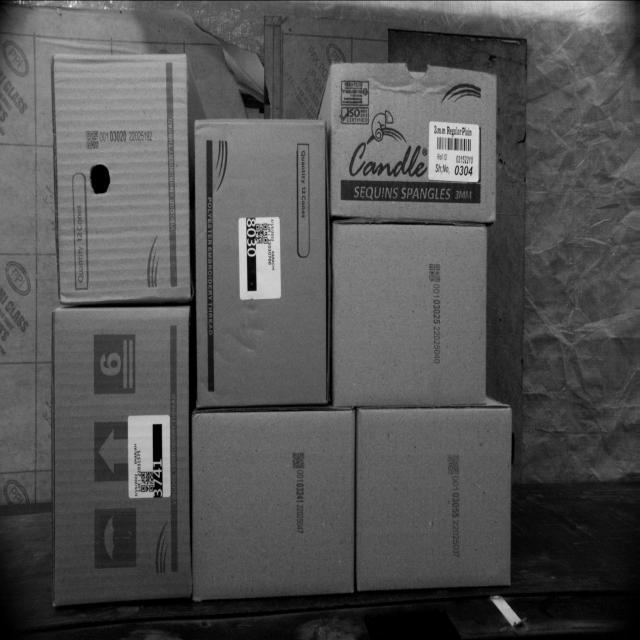box: (52, 303, 191, 608), (194, 119, 328, 406), (50, 49, 191, 300), (192, 409, 356, 601), (356, 403, 508, 596), (332, 226, 486, 403), (333, 60, 498, 218)
